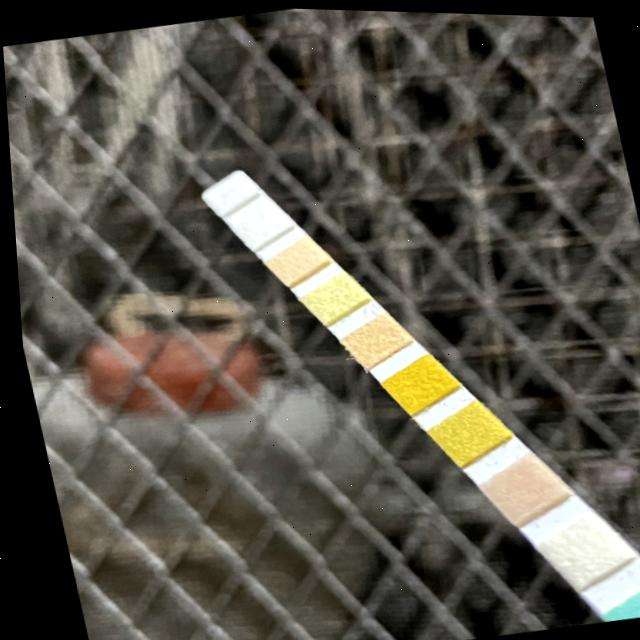Bilirubin: (542, 523, 613, 572)
Blood: (390, 362, 446, 400)
Glucose: (609, 591, 640, 617)
Ketone: (485, 465, 547, 506)
Leukocytes: (212, 181, 243, 201)
Nitrite: (237, 207, 276, 236)
Protein: (308, 280, 356, 309)
SpGravity: (431, 411, 493, 450)
Urobilinogen: (273, 247, 315, 270)
pH: (344, 324, 400, 353)
